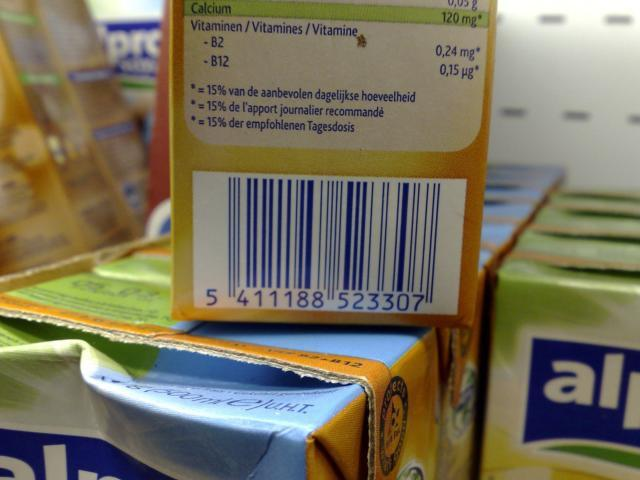Barcode: (192, 169, 468, 314)
